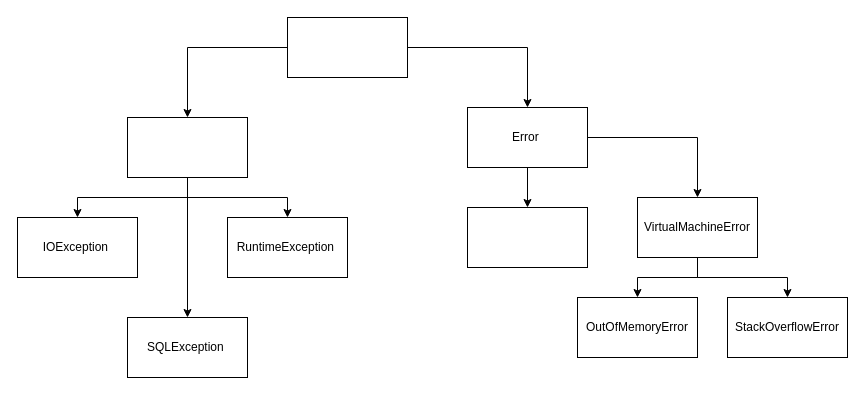
This 865x395 diagram has some shape labels left out. Here are the shapes that lost their labels. From the top down, the box of each, then its label:
(286, 16, 408, 78): Throwable
(126, 116, 248, 178): Exception
(466, 206, 588, 268): LinkageError
